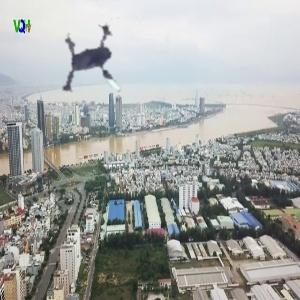drone: (39, 13, 163, 137)
